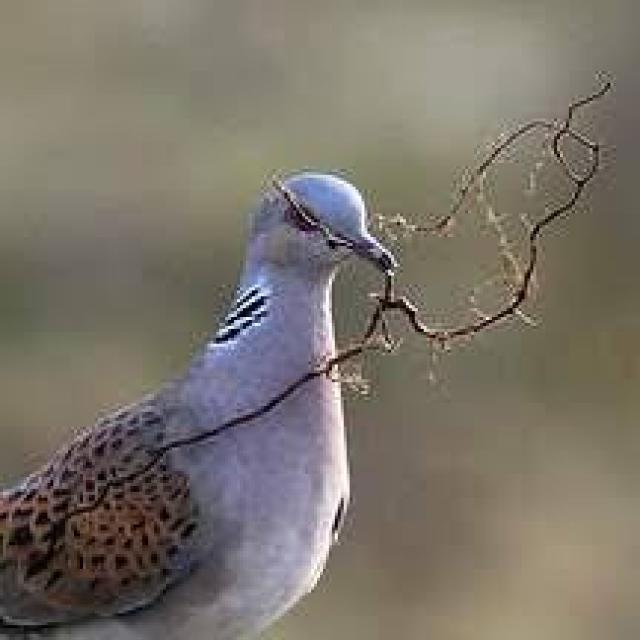pigeon: (0, 148, 406, 640)
